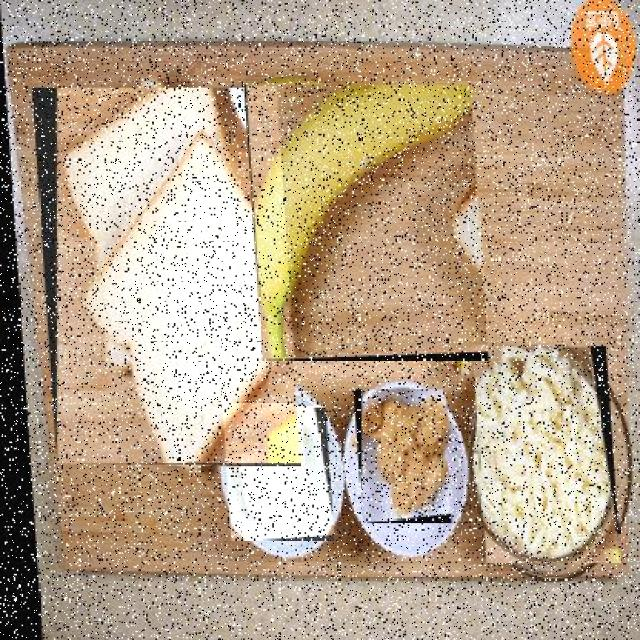Banana: (243, 83, 485, 360)
Bread: (31, 86, 295, 465)
Butter: (216, 404, 329, 539)
Cheese: (467, 345, 615, 563)
